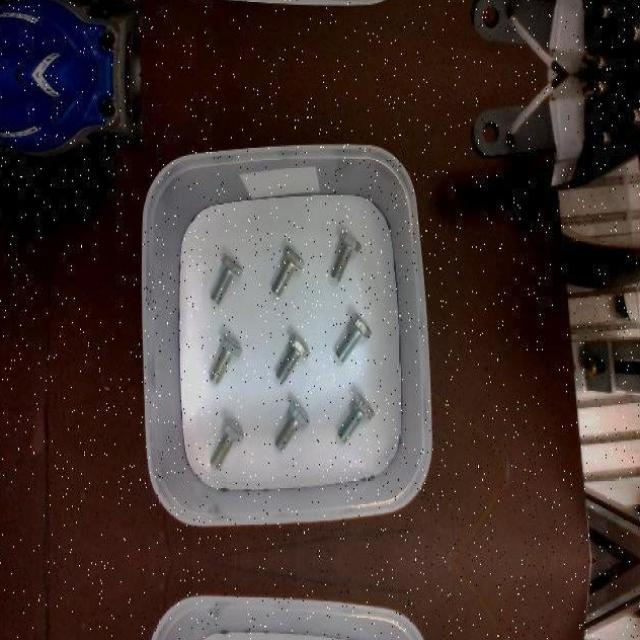screw: (274, 400, 310, 450), (338, 393, 375, 441), (336, 312, 371, 362), (271, 245, 305, 296), (276, 333, 310, 382), (211, 253, 243, 304), (211, 417, 243, 468), (210, 333, 242, 383), (331, 230, 362, 281)
